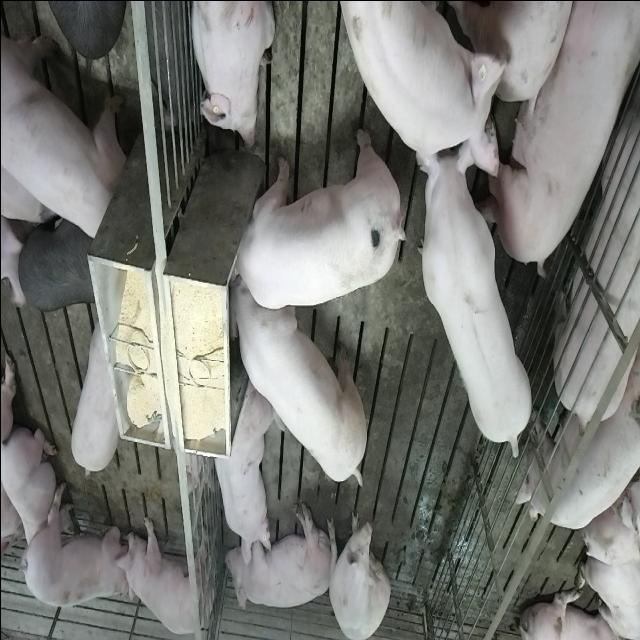Feeding: (222, 124, 396, 310), (229, 274, 371, 494)
Lateral_lying: (484, 0, 636, 275), (223, 500, 334, 614)
Sitting: (324, 502, 390, 638)
Standing: (416, 122, 536, 456), (550, 46, 640, 431), (340, 0, 510, 174), (1, 8, 124, 245), (518, 366, 640, 532), (22, 484, 128, 612), (116, 510, 208, 636), (66, 314, 120, 480), (17, 216, 96, 316)
Sternal_lying: (187, 0, 275, 151), (208, 380, 276, 564), (1, 427, 62, 560)
